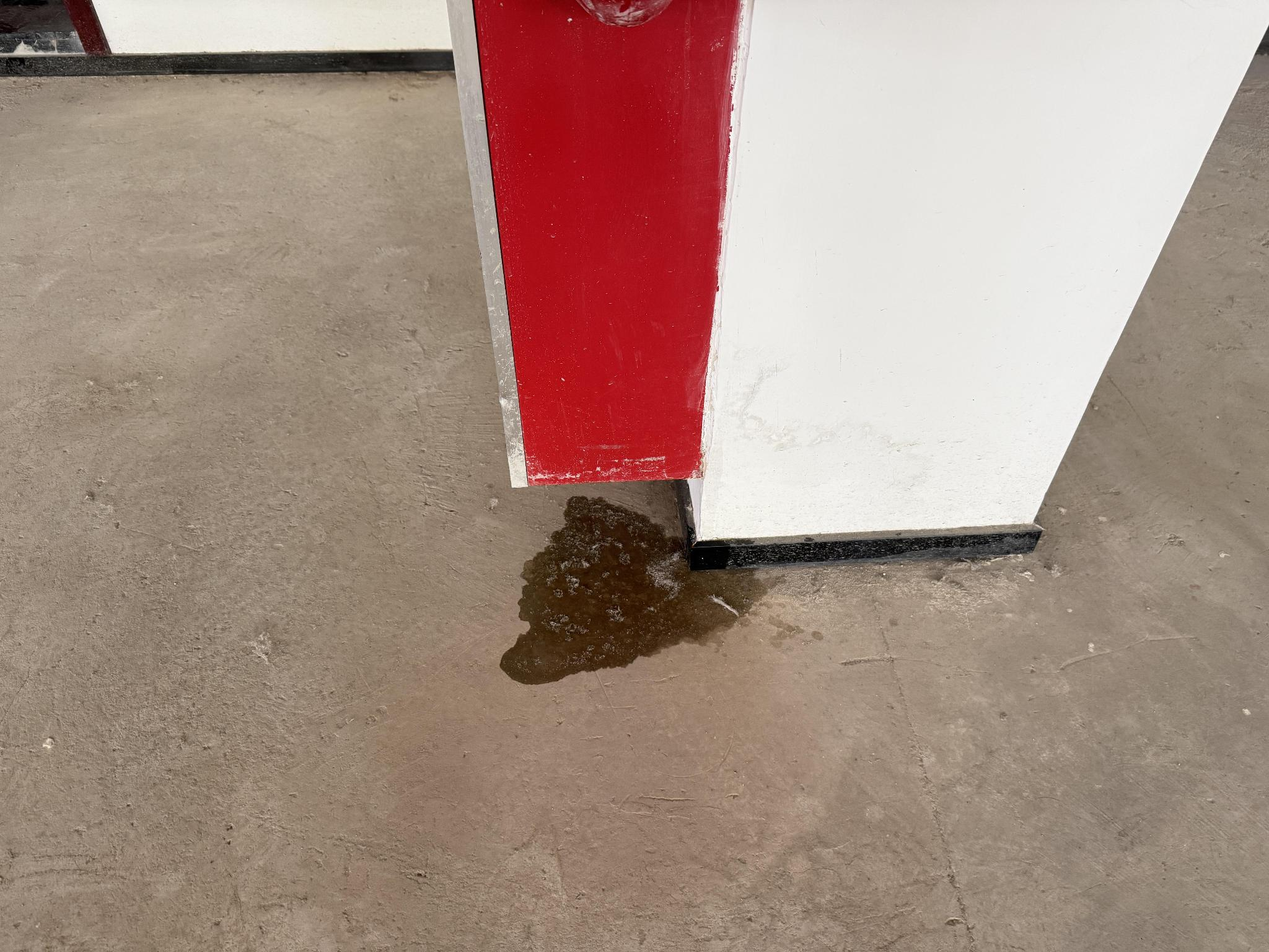water accumulation: (500, 496, 769, 684)
